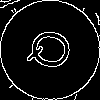Q: (25, 25, 83, 76)
